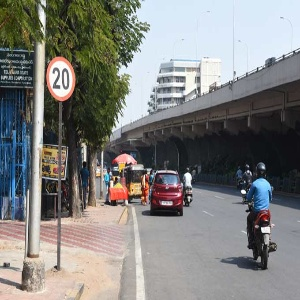20 speed: (46, 56, 76, 102)
